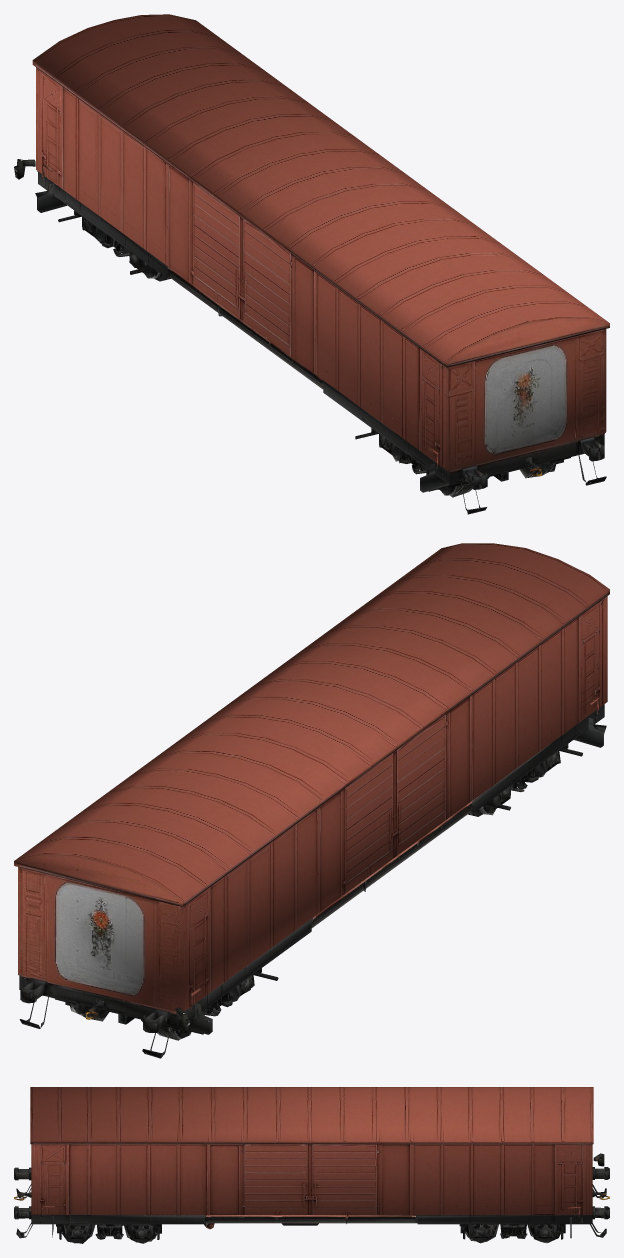
The model's file is railway_boxcar_freight_wagon__detailed_3d_model.glb.
3 renders of one model, top to bottom at view 1: azimuth 30°, elevation 25°; view 2: azimuth 150°, elevation 25°; view 3: azimuth 270°, elevation 25°, orthographic. The views are drawn at different scales.
Parts seen in each view (by area): view 1: tripo_node_bca6c355_0; view 2: tripo_node_bca6c355_0; view 3: tripo_node_bca6c355_0.
Part boxes in pixels (bbox=[...]): tripo_node_bca6c355_0: bbox=[14, 14, 609, 514]; tripo_node_bca6c355_0: bbox=[14, 543, 609, 1058]; tripo_node_bca6c355_0: bbox=[14, 1087, 609, 1243].
Bounding box in the file's own units: 0.2441 × 0.2363 × 0.998.
Materials: 1 (1 with a texture image).
